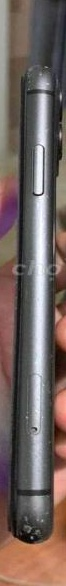scratch: (9, 500, 61, 547), (20, 65, 65, 93), (5, 406, 59, 428), (25, 366, 60, 399), (21, 187, 56, 217), (18, 278, 52, 308), (26, 114, 55, 141), (38, 483, 59, 512), (16, 454, 35, 470), (41, 436, 56, 447), (18, 476, 32, 486)
